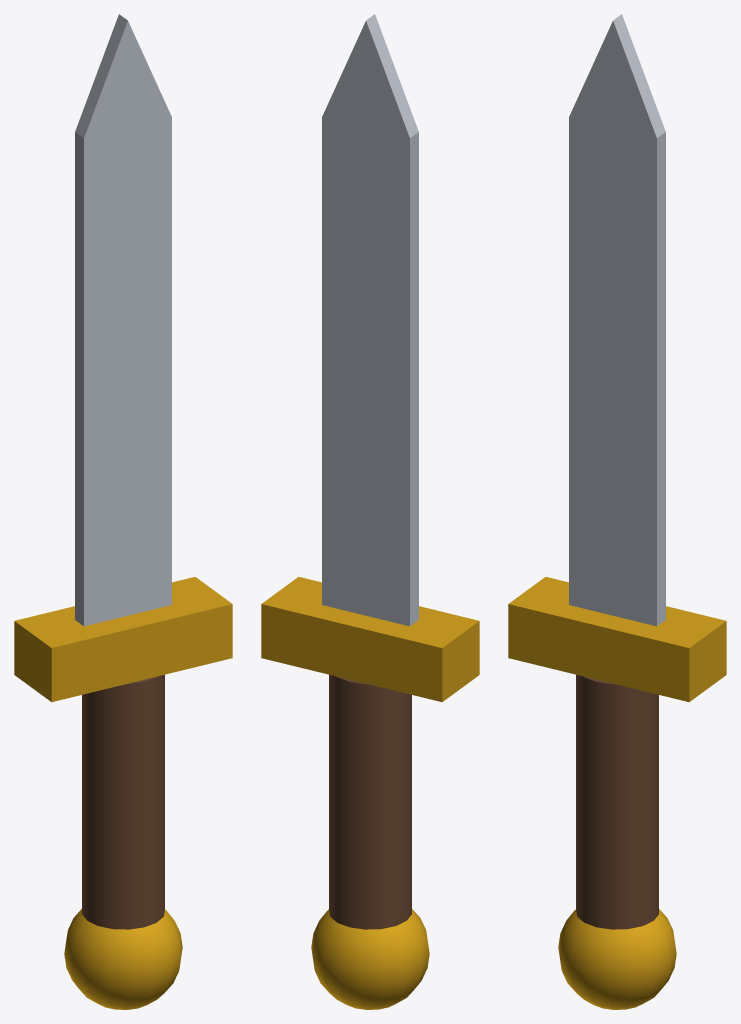
File: dagger.glb
The picture shows the model from 3 angles, left to right: view 1: azimuth 30°, elevation 25°; view 2: azimuth 150°, elevation 25°; view 3: azimuth 330°, elevation 25°; orthographic projection.
Parts seen in each view (by area): view 1: plate, cyl, box, sph; view 2: plate, cyl, box, sph; view 3: plate, cyl, box, sph.
Boxes of the visible parts, x1,y1,x2,y2 form: plate: [75, 14, 171, 626]; cyl: [82, 674, 164, 929]; box: [14, 577, 232, 702]; sph: [64, 909, 182, 1009]; plate: [322, 14, 418, 626]; cyl: [329, 674, 411, 929]; box: [261, 577, 479, 702]; sph: [311, 909, 429, 1009]; plate: [569, 14, 665, 626]; cyl: [576, 674, 658, 929]; box: [508, 577, 726, 702]; sph: [558, 909, 676, 1009].
Bounding box in the file's own units: 0.07 × 0.365 × 0.04.
